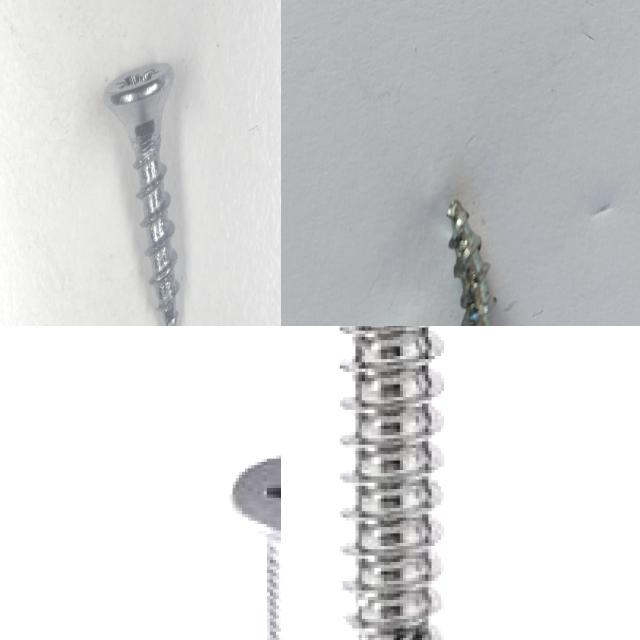Screw: (335, 326, 451, 640), (104, 61, 180, 326), (233, 456, 281, 640), (447, 200, 496, 326)
